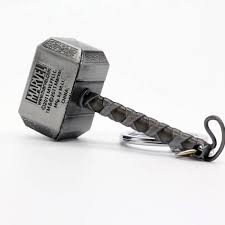THOR Hammer: (18, 24, 213, 186)
